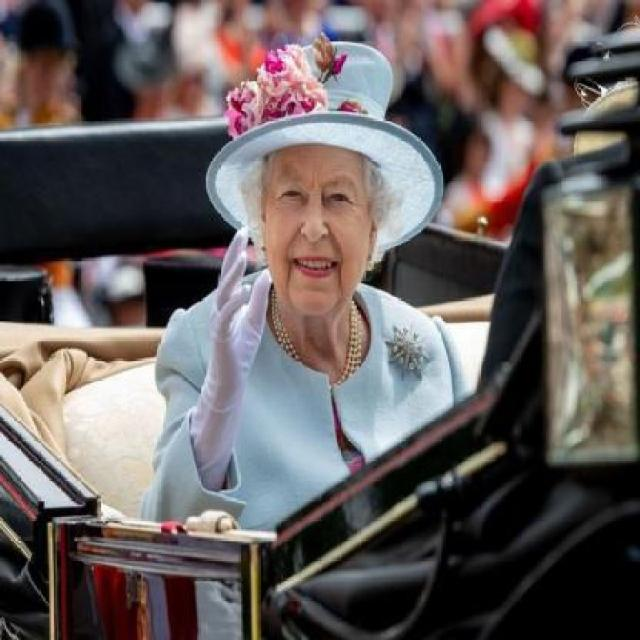face_nomask: (272, 157, 370, 329)
hand_glove: (198, 224, 272, 450)
head_nohelmet: (211, 43, 414, 169)
person: (154, 32, 475, 542)
